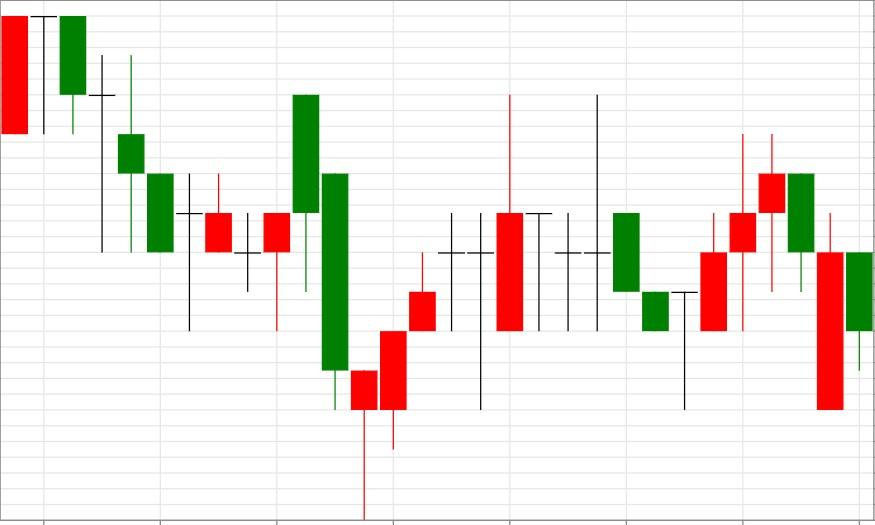hammer_rise: (292, 94, 378, 519)
three_white_soldiers_rise: (495, 93, 787, 411)
